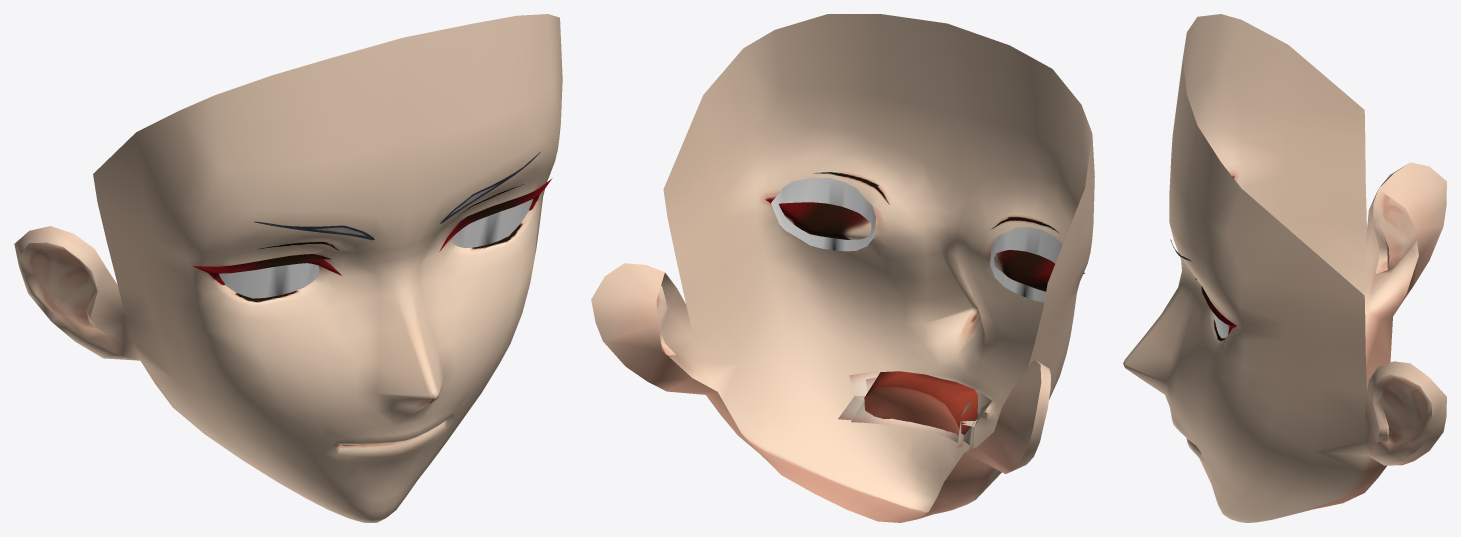
Rendered from Izumi.fbx.
3 views of the same model, side by side, from view 1: azimuth 30°, elevation 25°; view 2: azimuth 150°, elevation 25°; view 3: azimuth 270°, elevation 25° (orthographic). The views are drawn at different scales.
Parts seen in each view (by area): view 1: M_Head, M_Eye_B_Def, M_Mth_B_Def, M_PupALL_R_A_Def, M_PupALL_L_A_Def, M_Brw_B_Def; view 2: M_Head, M_Eye_B_Def, M_Mth_B_Def, M_PupALL_L_A_Def, M_PupALL_R_A_Def; view 3: M_Head, M_Eye_B_Def, M_Mth_B_Def.
Boxes of the visible parts, bbox=[...] form: M_Head: bbox=[14, 14, 562, 379]; M_Eye_B_Def: bbox=[122, 123, 560, 405]; M_Mth_B_Def: bbox=[141, 344, 509, 522]; M_PupALL_R_A_Def: bbox=[219, 263, 319, 298]; M_PupALL_L_A_Def: bbox=[453, 199, 532, 248]; M_Brw_B_Def: bbox=[253, 152, 540, 240]; M_Head: bbox=[591, 14, 1094, 473]; M_Eye_B_Def: bbox=[690, 125, 1093, 399]; M_Mth_B_Def: bbox=[706, 309, 1027, 522]; M_PupALL_L_A_Def: bbox=[771, 178, 875, 251]; M_PupALL_R_A_Def: bbox=[990, 227, 1062, 302]; M_Head: bbox=[1169, 14, 1446, 465]; M_Eye_B_Def: bbox=[1123, 107, 1326, 451]; M_Mth_B_Def: bbox=[1124, 313, 1392, 522].
Size of the model in its own units: 0.1724 by 0.1696 by 0.1081.
Materials: 5 (3 with a texture image).
